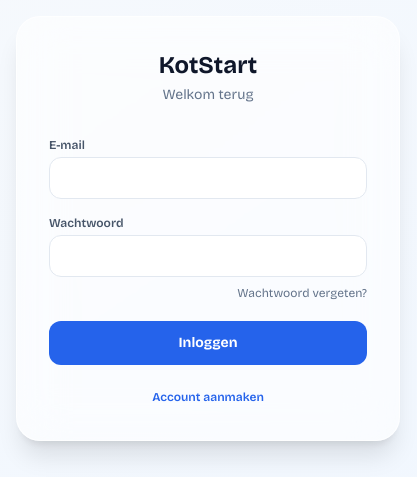
Test: LoginPage › schakelt naar forgot mode en verbergt wachtwoordveld
What coordinates should you click on to do the following:
click the button "Wachtwoord vergeten?"
I would click on:
 (302, 292)
Its box is [237,284,367,300].
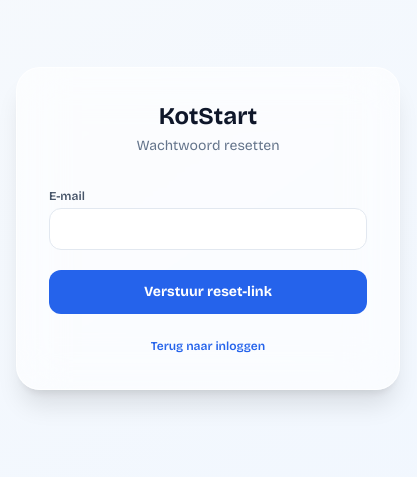
Expected: the field labelled "E-mail" is shown, [49,208,367,250]
Expected: the button "Verstuur reset-link" is shown, [49,270,367,314]
